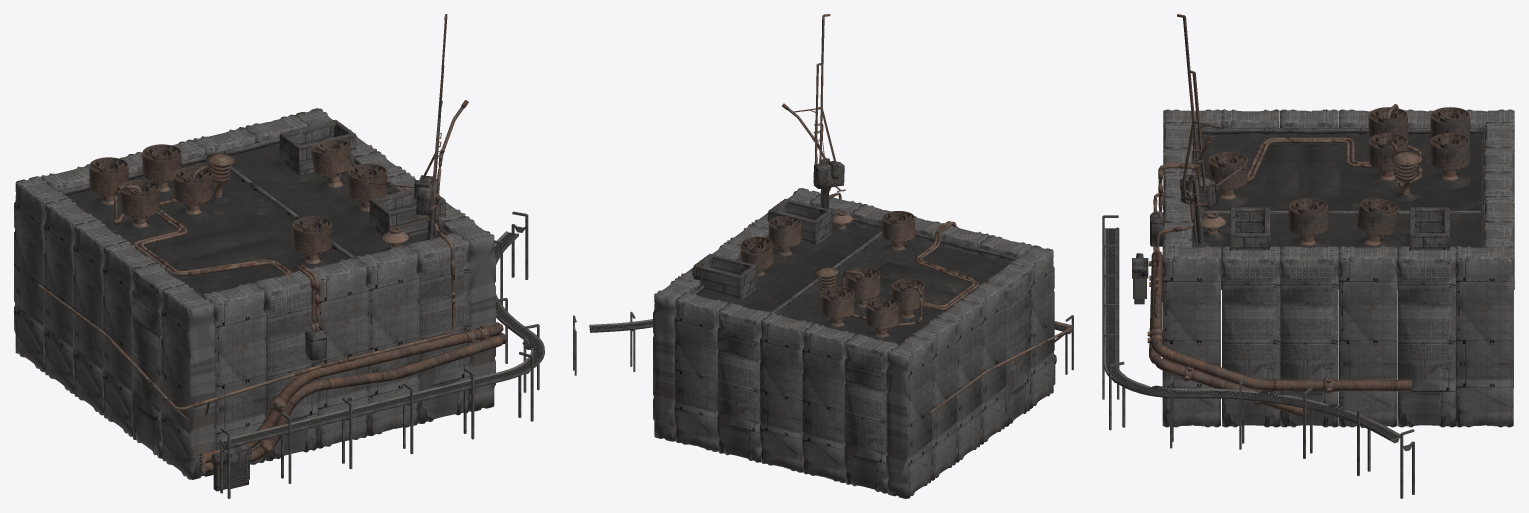
Rendered from LOC0_box.fbx.
The picture shows the model from 3 angles, left to right: view 1: azimuth 30°, elevation 25°; view 2: azimuth 150°, elevation 25°; view 3: azimuth 270°, elevation 25°; orthographic projection. The views are drawn at different scales.
Visible parts, largest first — view 1: CityAsset-0-1.008, Plane.013, Vert.040, Vert.038, Vert.039, Vert.043, CityAsset-14.020, CityAsset-14.021, Plane.024, pip.072, Plane.016, Cylinder.088 (+11 smaller); view 2: CityAsset-0-1.008, Plane.013, CityAsset-14.020, pip.072, CityAsset-14.021, Vert.040, Plane.016, Cylinder.090, Cylinder.093, Cylinder.088, Cylinder.092, Cylinder.094 (+7 smaller); view 3: CityAsset-0-1.008, Plane.013, Vert.040, Vert.039, pip.072, Plane.024, Plane.016, CityAsset-14.020, CityAsset-14.021, Vert.038, Cylinder.090, Cylinder.093 (+12 smaller).
Boxes of the visible parts, x1,y1,x2,y2 form: CityAsset-0-1.008: (14, 108, 495, 479); Plane.013: (67, 143, 440, 295); Vert.040: (220, 211, 544, 498); Vert.038: (199, 333, 507, 474); Vert.039: (199, 322, 503, 463); Vert.043: (38, 100, 468, 410); CityAsset-14.020: (279, 119, 356, 175); CityAsset-14.021: (369, 188, 446, 236); Plane.024: (146, 223, 269, 262); pip.072: (366, 14, 447, 240); Plane.016: (166, 239, 290, 279); Cylinder.088: (292, 216, 331, 263); CityAsset-0-1.008: (653, 188, 1054, 498); Plane.013: (697, 222, 1008, 344); CityAsset-14.020: (692, 253, 756, 299); pip.072: (793, 14, 845, 208); CityAsset-14.021: (767, 198, 832, 244); Vert.040: (573, 311, 1073, 375); Plane.016: (876, 262, 975, 294); Cylinder.090: (821, 287, 854, 326); Cylinder.093: (768, 216, 801, 255); Cylinder.088: (882, 211, 914, 250); Cylinder.092: (866, 297, 898, 337); Cylinder.094: (740, 236, 773, 275); CityAsset-0-1.008: (1162, 109, 1514, 427); Plane.013: (1195, 134, 1481, 260); Vert.040: (1102, 215, 1414, 498); Vert.039: (1147, 251, 1411, 393); pip.072: (1177, 14, 1245, 244); Plane.024: (1303, 144, 1341, 197); Plane.016: (1261, 144, 1299, 197); CityAsset-14.020: (1409, 207, 1450, 250); CityAsset-14.021: (1229, 207, 1270, 250); Vert.038: (1149, 268, 1306, 417); Cylinder.090: (1430, 133, 1469, 180); Cylinder.093: (1288, 198, 1327, 245).
Bounding box in the file's own units: 749 × 600 × 565.
